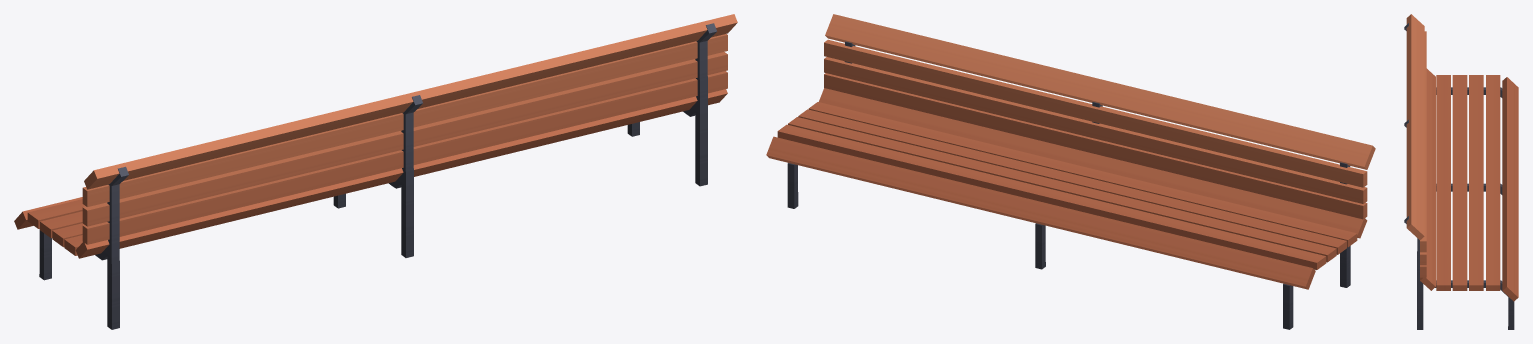
The model's file is benchParkLong.fbx.
The picture shows the model from 3 angles, left to right: view 1: azimuth 30°, elevation 25°; view 2: azimuth 150°, elevation 25°; view 3: azimuth 270°, elevation 25°; orthographic projection. The views are drawn at different scales.
Parts seen in each view (by area): view 1: benchParkLong; view 2: benchParkLong; view 3: benchParkLong.
Part boxes in pixels (x1,y1,x2,y2): benchParkLong: [14, 14, 737, 329]; benchParkLong: [766, 14, 1375, 329]; benchParkLong: [1404, 14, 1518, 329].
Size of the model in its own units: 2 by 0.4587 by 0.5019.
